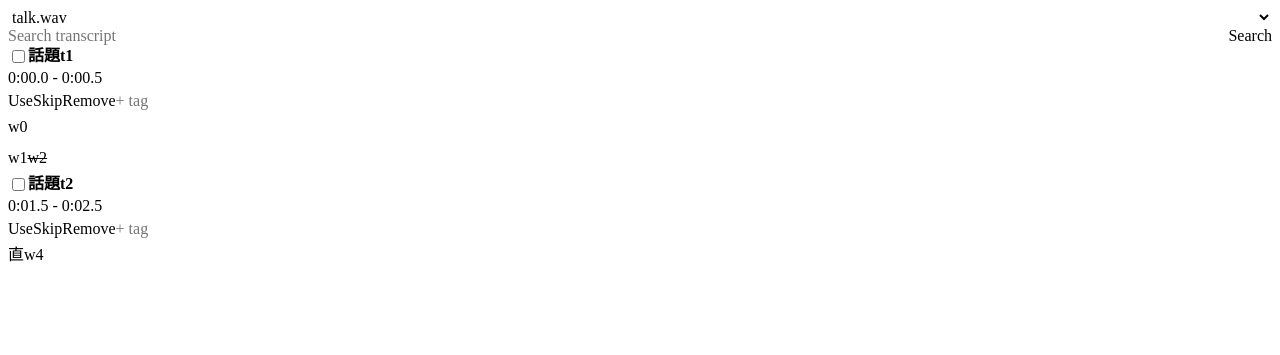
it: StoryPanel の検索と並べる › 選んだ話題を並べた順に sequence へ差し込み、先頭へ移る
The width and height of the screenshot is (1280, 355).
Click the checkbox named "Pick topic". click: (18, 184)
box: [12,178,25,191]
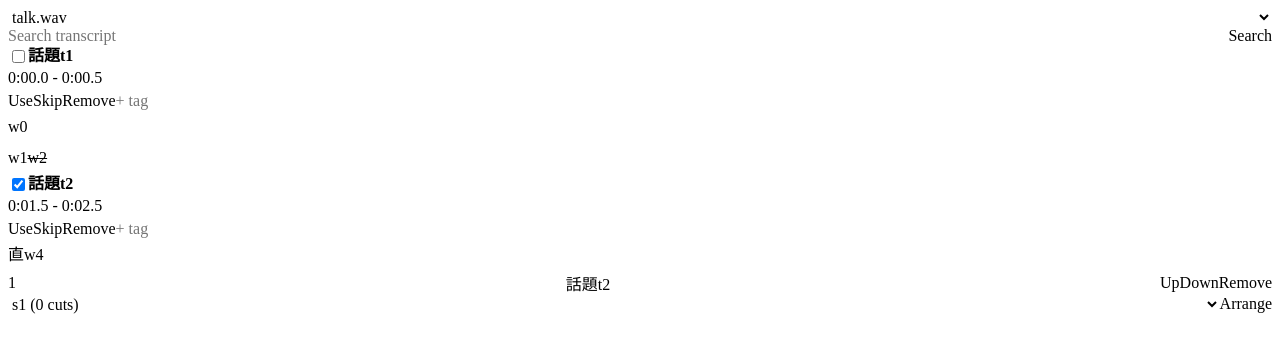
Click the checkbox named "Pick topic". click: (18, 56)
box: [12,50,25,63]
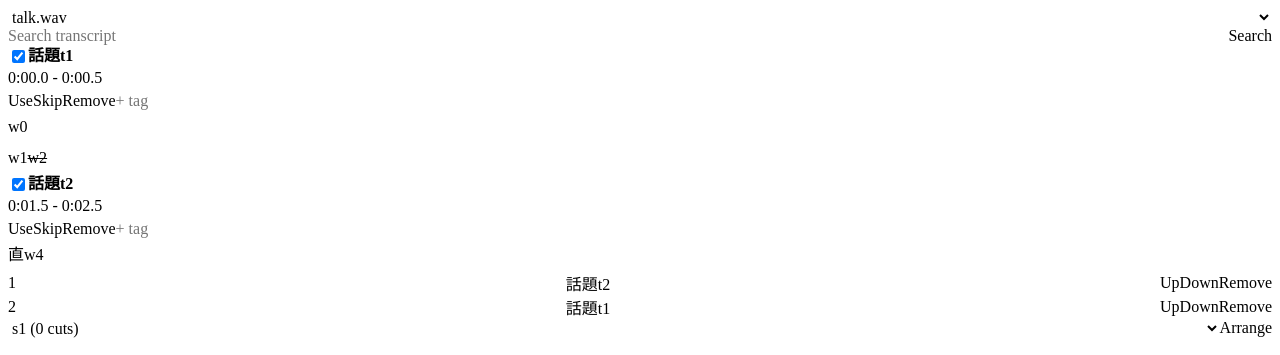
Check: the number of list items with class "mm-story-tray-item" is 2, box [8,270,1272,294]; [8,294,1272,318]
Click the button "Arrange". click: (1246, 328)
box: [1220,319,1272,337]
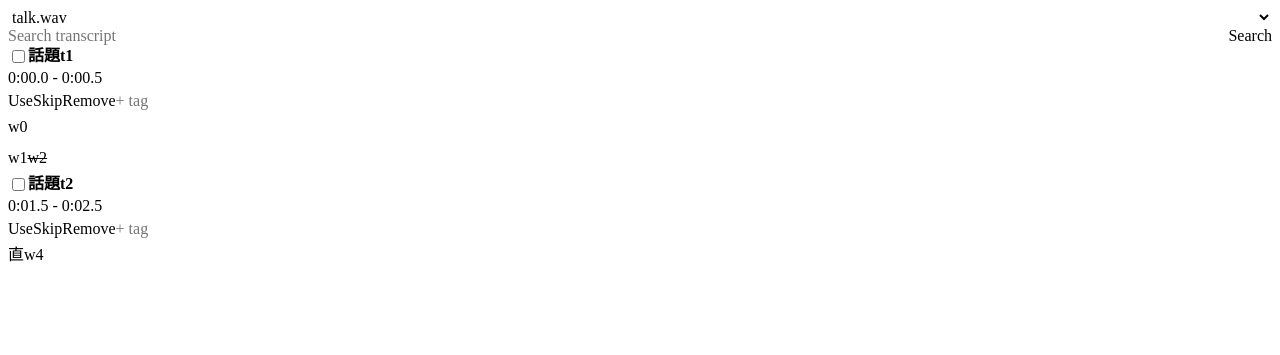
Check: the list with class "mm-story-tray" is gone
